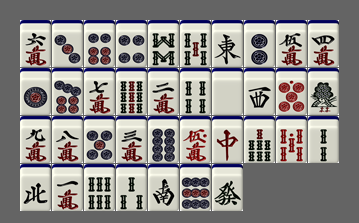0m: (180, 116, 211, 163)
0p: (276, 68, 307, 115)
0s: (276, 116, 307, 163)
1m: (52, 164, 83, 211)
1p: (20, 68, 51, 115)
1s: (308, 68, 339, 115)
1z: (212, 20, 243, 67)
2m: (148, 68, 179, 115)
2p: (244, 20, 275, 67)
2s: (308, 116, 339, 163)
2z: (148, 164, 179, 211)
3m: (116, 116, 147, 163)
3p: (52, 20, 83, 67)
3s: (116, 164, 147, 211)
3z: (244, 68, 275, 115)
4m: (308, 20, 339, 67)
4p: (116, 20, 147, 67)
4s: (180, 68, 211, 115)
4z: (20, 164, 51, 211)
5m: (276, 20, 307, 67)
5p: (84, 116, 115, 163)
5s: (180, 20, 211, 67)
5z: (212, 68, 243, 115)
6m: (20, 20, 51, 67)
6p: (84, 20, 115, 67)
6s: (84, 164, 115, 211)
6z: (212, 164, 243, 211)
7m: (84, 68, 115, 115)
7p: (52, 68, 83, 115)
7s: (244, 116, 275, 163)
7z: (212, 116, 243, 163)
8m: (52, 116, 83, 163)
8p: (148, 116, 179, 163)
8s: (148, 20, 179, 67)
9m: (20, 116, 51, 163)
9p: (180, 164, 211, 211)
9s: (116, 68, 147, 115)
